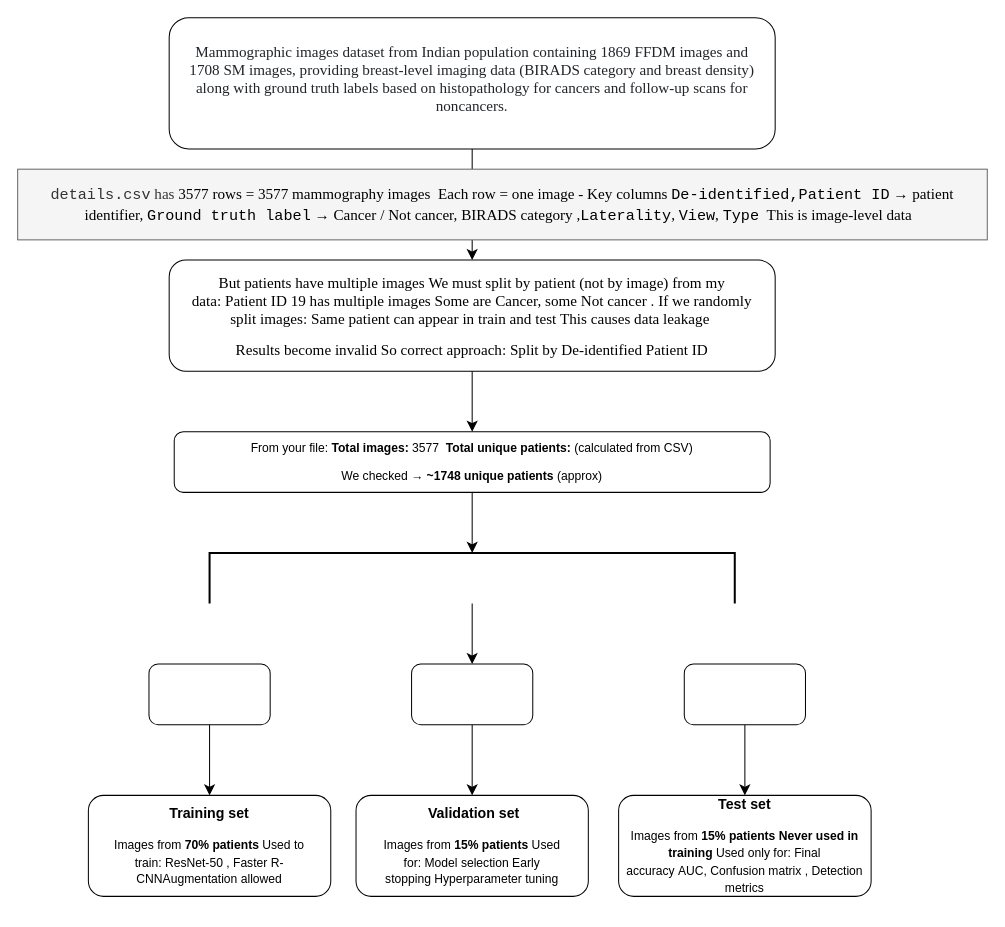
This 1005x927 diagram has some shape labels left out. The centre of each missing label's shape, as x and y in pixels:
"Test 15% ~547 images" belongs at [744,694].
"Training 70% ~2500 images" belongs at [209,694].
"Validation 15% ~530 images" belongs at [472,694].
